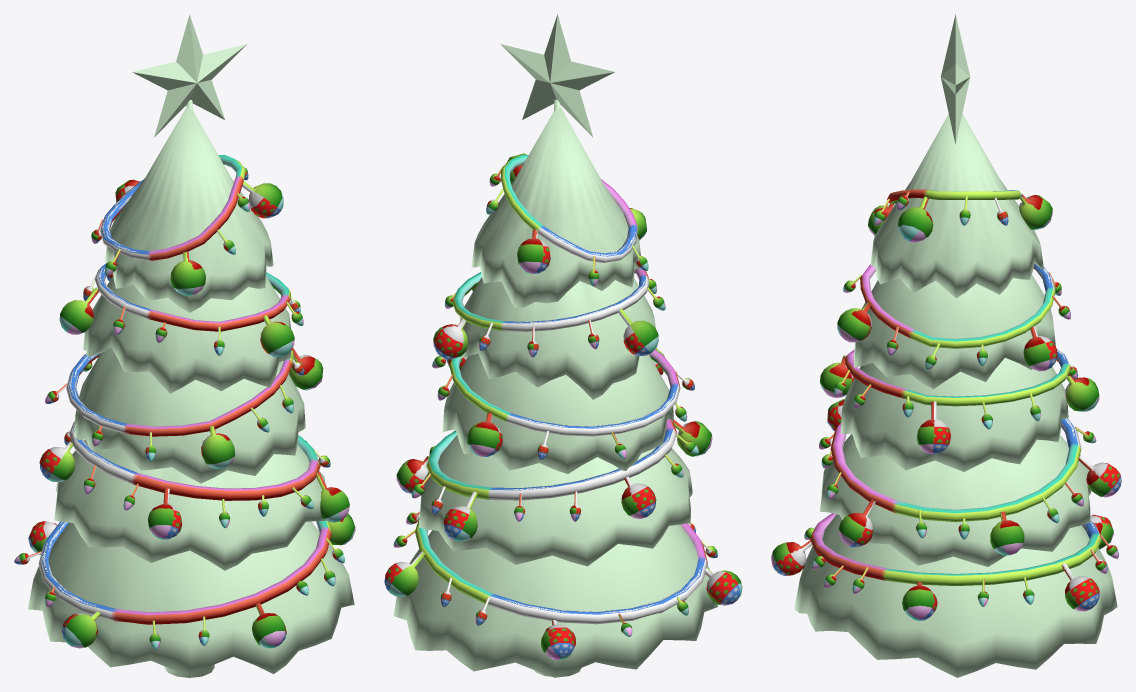
File: tree.obj
3 renders of one model, left to right at view 1: azimuth 30°, elevation 25°; view 2: azimuth 150°, elevation 25°; view 3: azimuth 270°, elevation 25°, orthographic.
Parts seen in each view (by area): view 1: Tree_Circle; view 2: Tree_Circle; view 3: Tree_Circle.
Boxes of the visible parts, x1,y1,x2,y2 form: Tree_Circle: [14, 14, 355, 677]; Tree_Circle: [384, 14, 742, 677]; Tree_Circle: [771, 14, 1121, 677].
Bounding box in the file's own units: 0.7672 × 1.6 × 0.7874.
10 materials, 10 textured.
